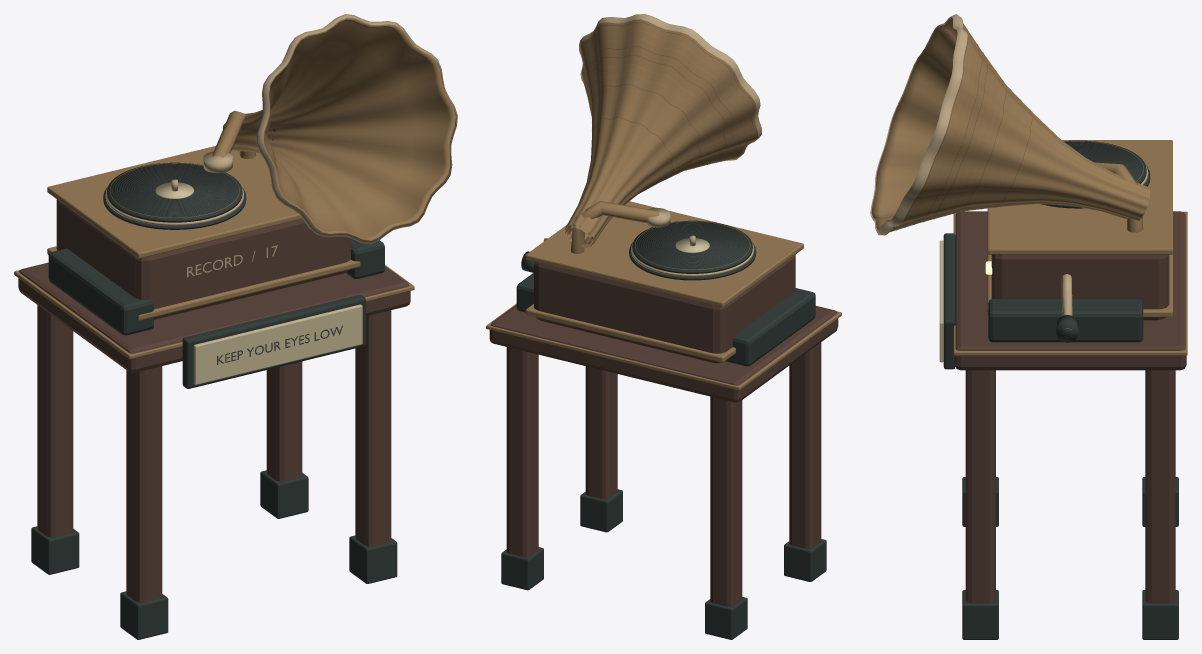
File: office-phonograph.glb
The picture shows the model from 3 angles, left to right: view 1: azimuth 30°, elevation 25°; view 2: azimuth 150°, elevation 25°; view 3: azimuth 270°, elevation 25°; orthographic projection. The views are drawn at different scales.
Visible parts, largest first — view 1: Dark walnut veneer, Aged brass, Blackened green iron, Faded inspection card, Machined brass edge, Recesses and old mineral seepage; view 2: Dark walnut veneer, Aged brass, Blackened green iron, Recesses and old mineral seepage, Machined brass edge, Heat-marked copper throat; view 3: Aged brass, Dark walnut veneer, Blackened green iron, Machined brass edge, Recesses and old mineral seepage, Heat-marked copper throat, Faded inspection card.
Boxes of the visible parts, <box> form: Dark walnut veneer: <box>18,199,410,602</box>; Aged brass: <box>14,17,456,359</box>; Blackened green iron: <box>31,162,397,639</box>; Faded inspection card: <box>155,182,362,384</box>; Machined brass edge: <box>105,14,457,277</box>; Recesses and old mineral seepage: <box>112,164,342,364</box>; Dark walnut veneer: <box>489,254,838,606</box>; Aged brass: <box>486,19,841,390</box>; Blackened green iron: <box>501,220,826,639</box>; Recesses and old mineral seepage: <box>637,222,747,268</box>; Machined brass edge: <box>543,14,761,276</box>; Heat-marked copper throat: <box>568,22,755,244</box>; Aged brass: <box>871,18,1187,355</box>; Dark walnut veneer: <box>954,211,1186,603</box>; Blackened green iron: <box>943,140,1178,639</box>; Machined brass edge: <box>870,14,1148,337</box>; Recesses and old mineral seepage: <box>1066,142,1141,179</box>; Heat-marked copper throat: <box>890,23,1032,231</box>; Faded inspection card: <box>939,240,943,362</box>.
Size of the model in its own units: 0.9675 by 1.72 by 0.8473.
